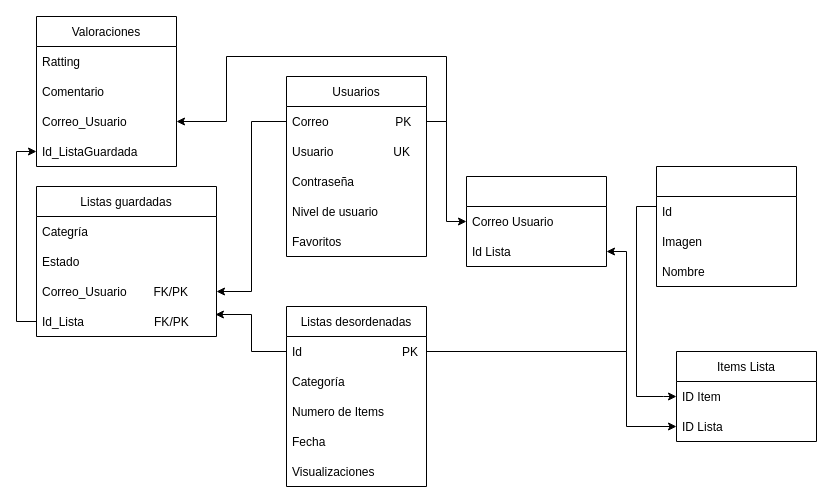
The diagram is 833 pixels wide and 503 high, and some of its shapes have lost their labels. The shapes that lost their labels are listed below. From the top down, each one's box as (x1, y1, x2, y2) in pixels, then its label:
(466, 176, 606, 266): Lista favoritos
(656, 166, 796, 286): Items
